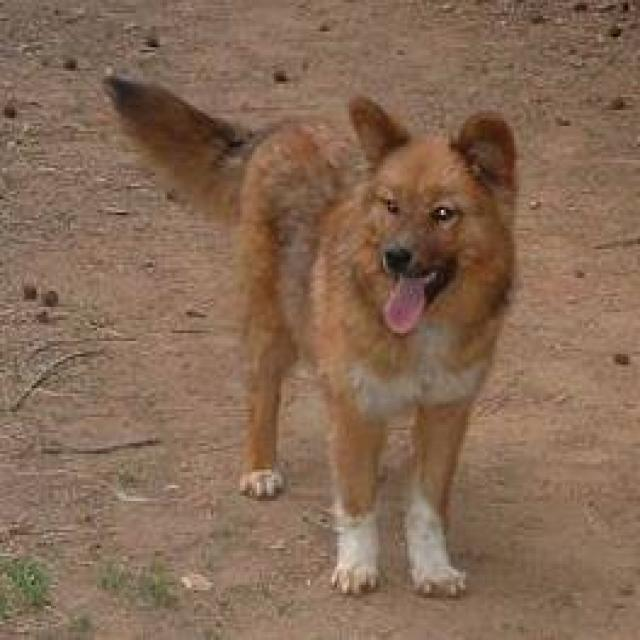dog: (82, 29, 544, 608)
